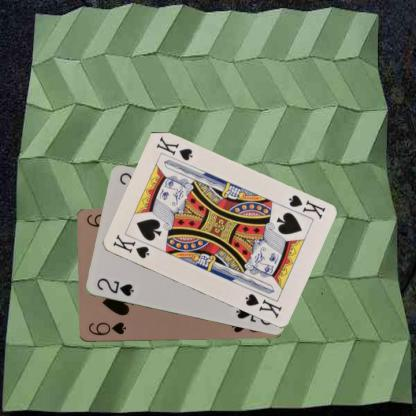2s: (94, 276, 135, 298)
6s: (86, 319, 127, 337)
Ks: (286, 192, 326, 221), (110, 232, 151, 260)
